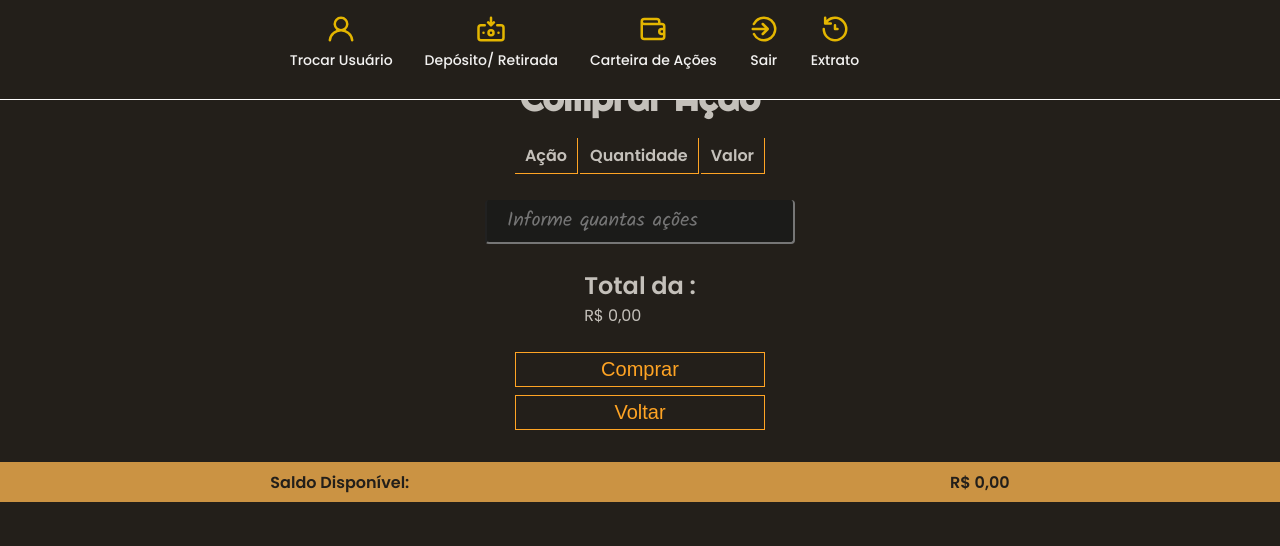
Teste a página BuySale › 7 - Teste se a página contém um campo que mostra o total da compra e ao digitar um valor, ele é alterado também
In the field: (640, 222) [485,200,795,244], type "200"
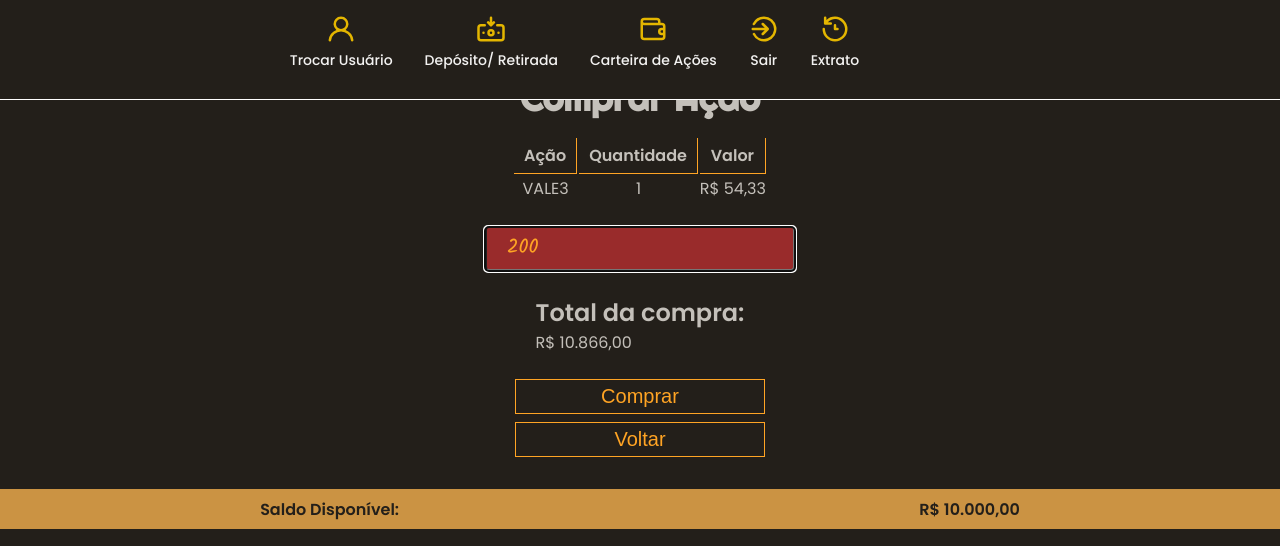
Expected: the text "R$ 10.866,00" is shown, [536,331,632,354]
